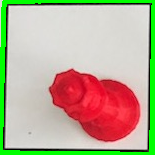Red Queen: (47, 66, 141, 144)
